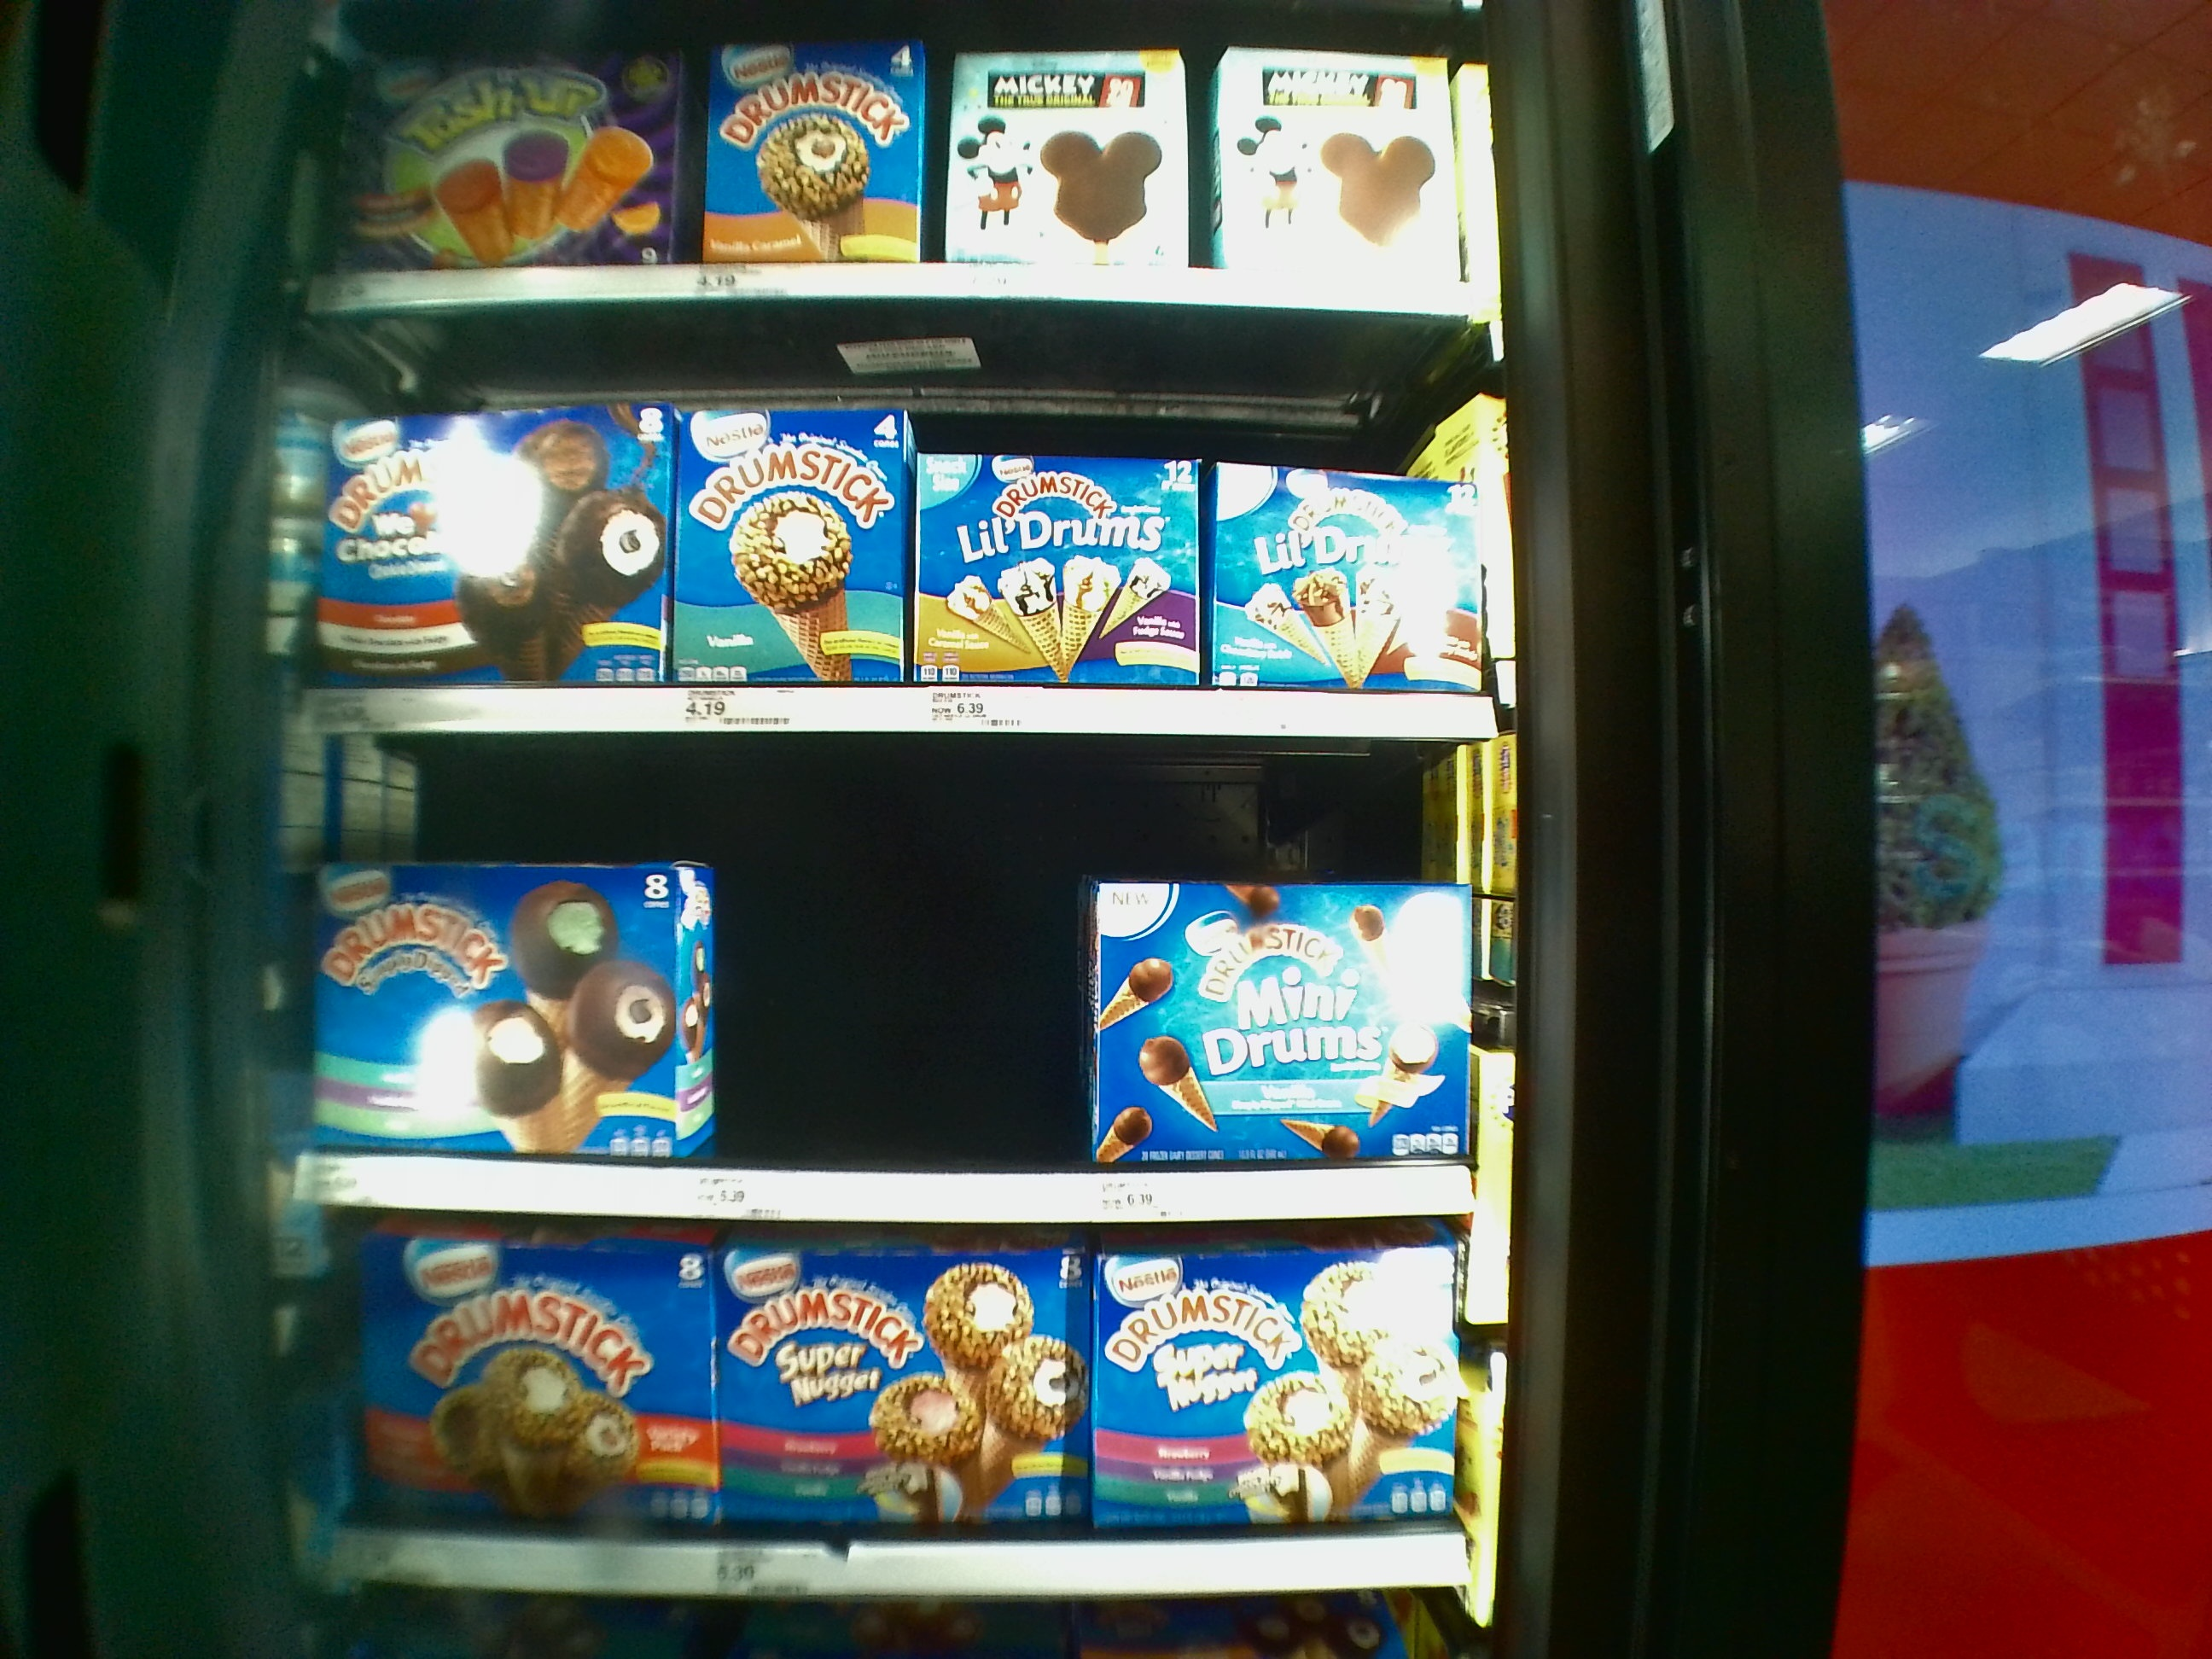shelf: (314, 741, 1489, 1239), (314, 308, 1496, 739), (331, 1209, 1470, 1600), (322, 10, 1491, 315)
